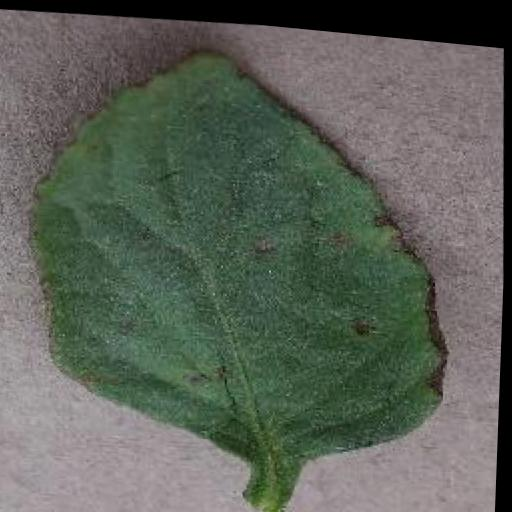Bacterial Spot: (9, 11, 467, 483)
